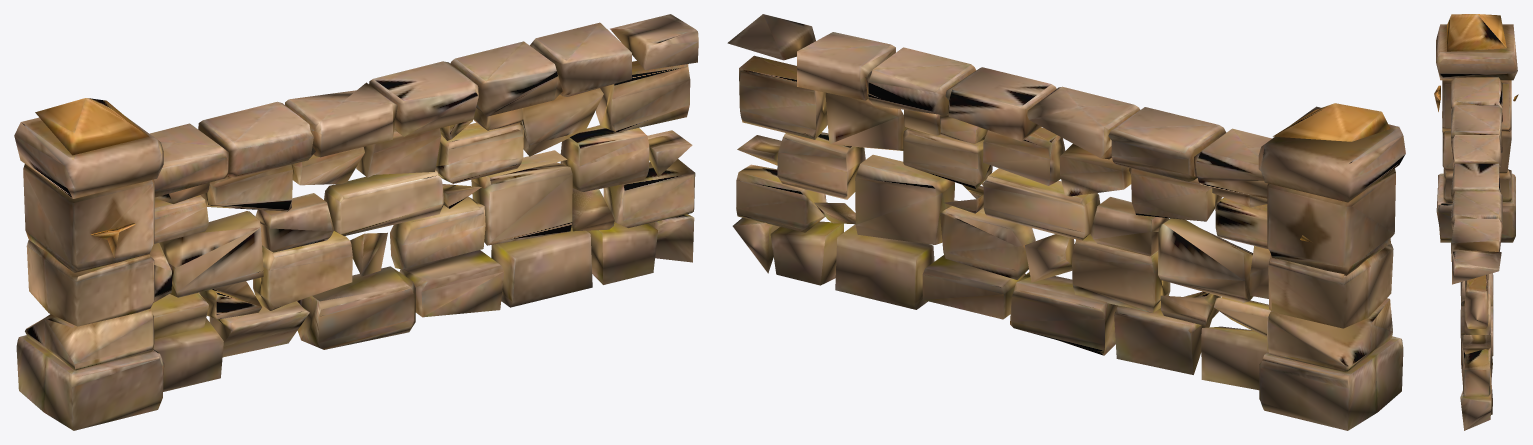
Rendered from town-wall.lod.web.glb.
3 renders of one model, left to right at view 1: azimuth 30°, elevation 25°; view 2: azimuth 150°, elevation 25°; view 3: azimuth 270°, elevation 25°, orthographic. The views are drawn at different scales.
Visible parts, largest first — view 1: town-wall; view 2: town-wall; view 3: town-wall.
Part boxes in pixels (x1,y1,x2,y2): town-wall: (14, 14, 698, 430); town-wall: (727, 14, 1405, 430); town-wall: (1434, 14, 1518, 430).
Size of the model in its own units: 4 by 1.8 by 0.6499.
Materials: 1 (1 with a texture image).
